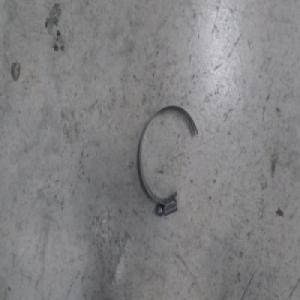AdjustableClamp: (137, 103, 199, 217)
